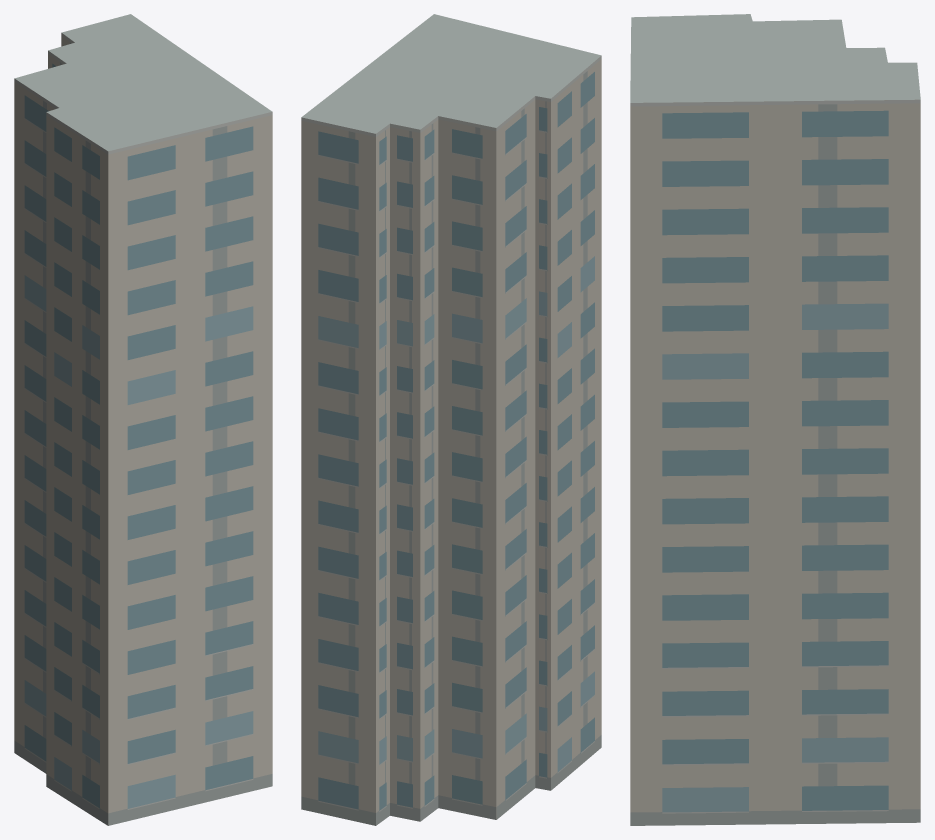
File: residential-a03fcacc-9e47-450e-a020-694dea03537d.glb
3 views of the same model, side by side, from view 1: azimuth 30°, elevation 25°; view 2: azimuth 150°, elevation 25°; view 3: azimuth 270°, elevation 25° (orthographic). The views are drawn at different scales.
Parts seen in each view (by area): view 1: residential-a03fcacc-9e47-450e-a020-694dea03537d.tmp; view 2: residential-a03fcacc-9e47-450e-a020-694dea03537d.tmp; view 3: residential-a03fcacc-9e47-450e-a020-694dea03537d.tmp.
Part boxes in pixels (x1,y1,x2,y2): residential-a03fcacc-9e47-450e-a020-694dea03537d.tmp: (14,14,272,825); residential-a03fcacc-9e47-450e-a020-694dea03537d.tmp: (301,14,601,825); residential-a03fcacc-9e47-450e-a020-694dea03537d.tmp: (630,14,920,825).
Bounding box in the file's own units: 13.2 × 50 × 18.22.
